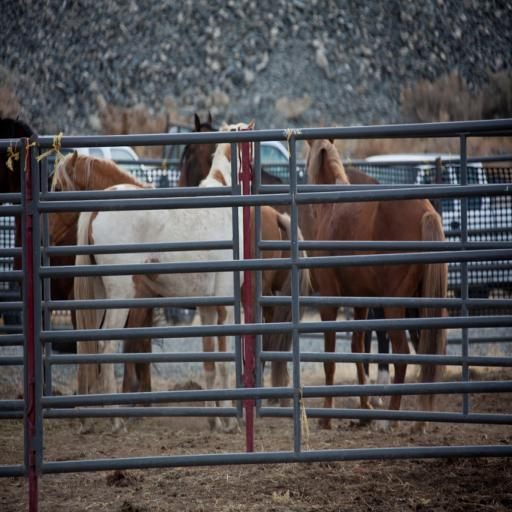horse: (35, 148, 314, 420), (71, 114, 254, 434), (304, 134, 448, 439), (171, 112, 316, 400)
